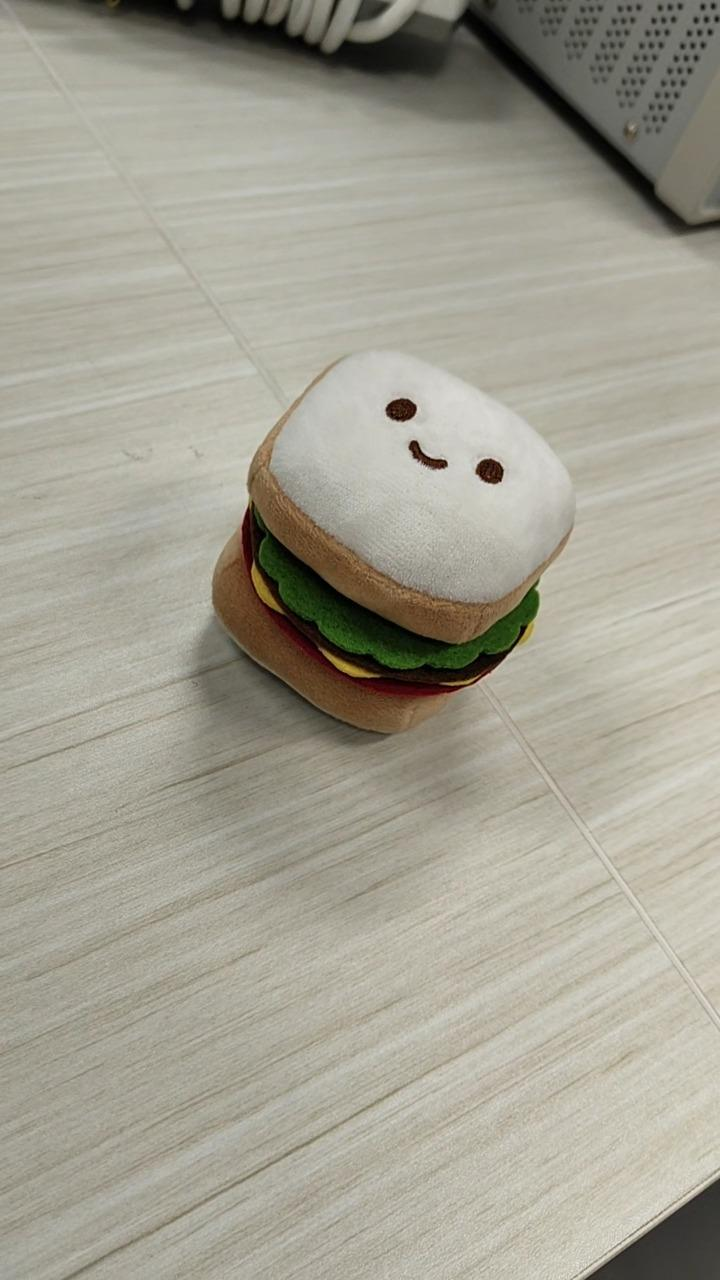objects: (210, 344, 576, 735)
